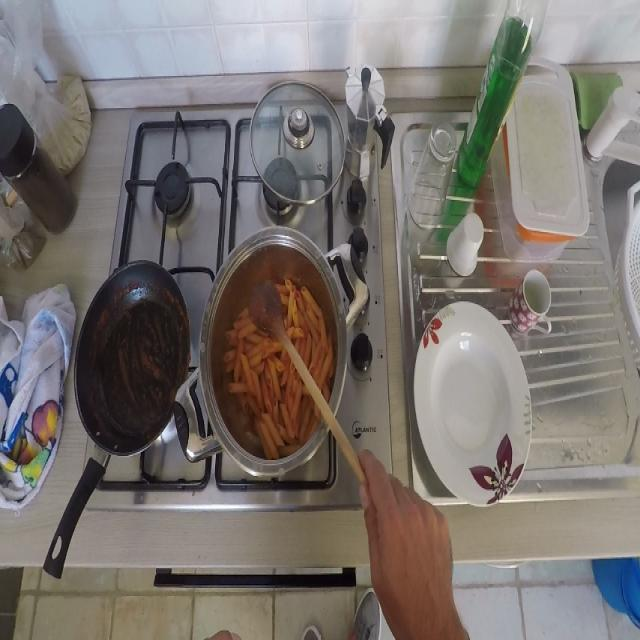cutting board: (514, 48, 590, 242)
glass: (416, 116, 455, 234)
hob: (118, 103, 233, 257)
lid: (252, 78, 344, 207)
pan: (44, 273, 186, 584)
plate: (407, 296, 535, 516)
right hand: (360, 443, 459, 640)
wooden spoon: (251, 278, 366, 486)
